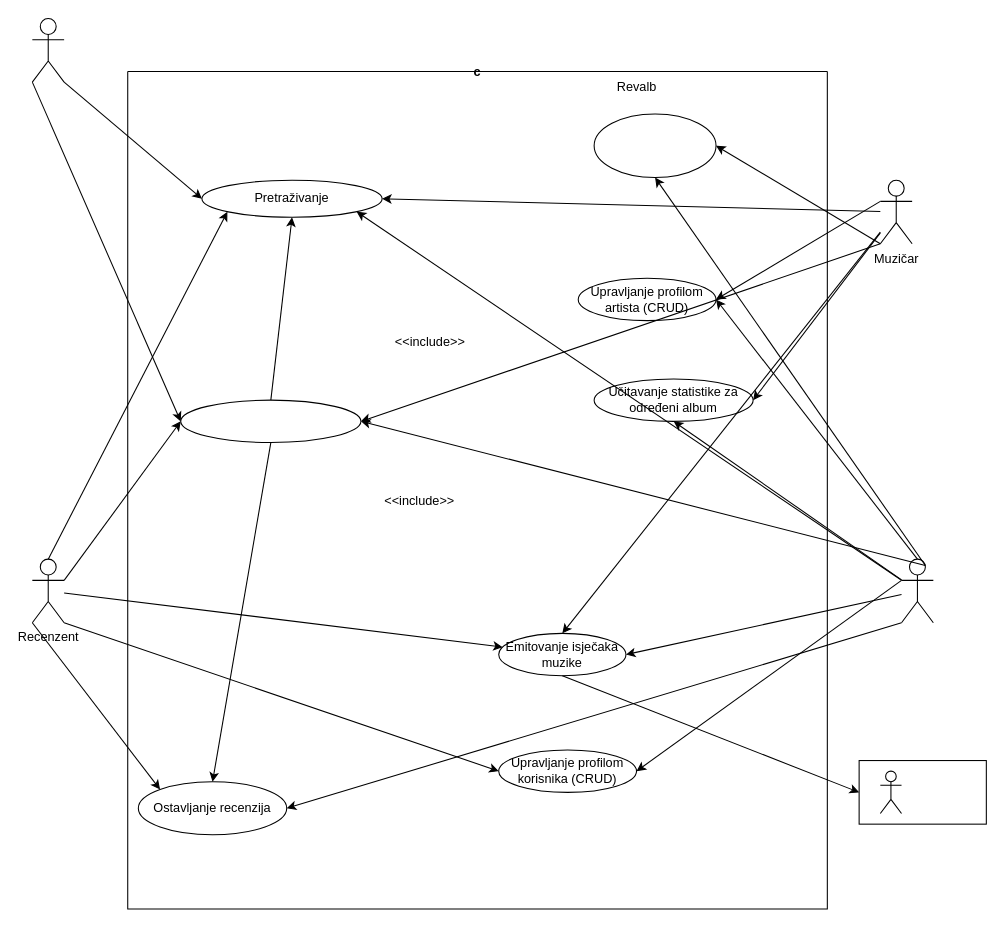
Some shapes in this 1005 by 927 pixel diagram are drawn without their labels. The box of each missing label's shape, as (x1, y1, x2, y2) in pixels:
Administrator: (900, 558, 933, 623)
Gost: (31, 17, 64, 82)
Pregled popularnih albuma: (180, 399, 361, 443)
Zakazivanje vremena i datuma objave albuma: (593, 113, 716, 178)
Zvučnik: (858, 759, 986, 824)
